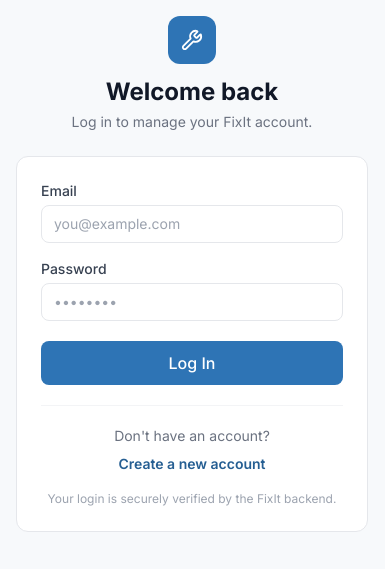
Test case: FixIt Login Page › displays an error for an invalid email address
Type "invalid-email" into the field labelled "Email" at (192, 224), box [41, 205, 343, 243]
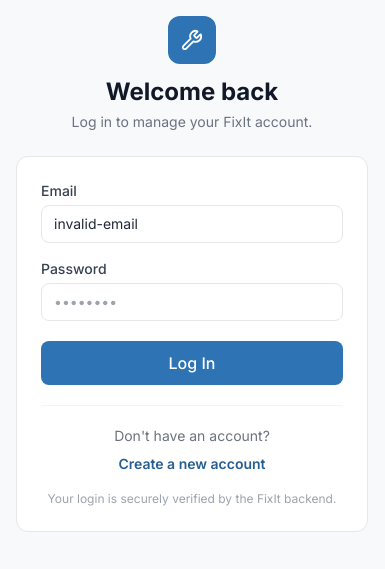
Type "password123" into the password field labelled "Password" at (192, 302), box [41, 283, 343, 321]
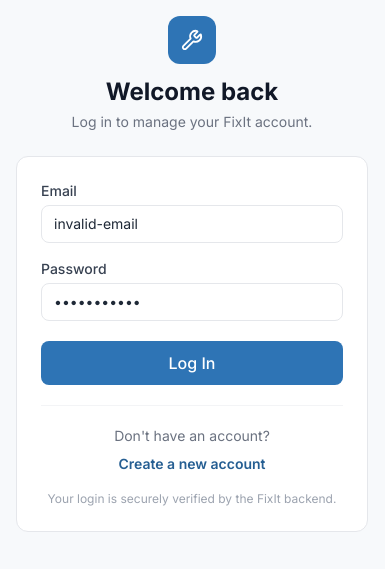
Click the button "Log In" at (192, 363), box [41, 341, 343, 385]
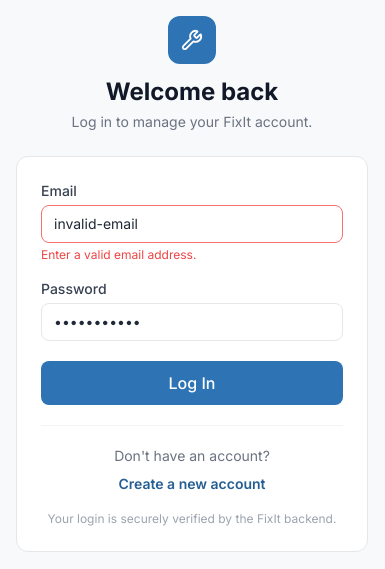
Result: the text "Enter a valid email address." is shown at [41, 247, 196, 262]
